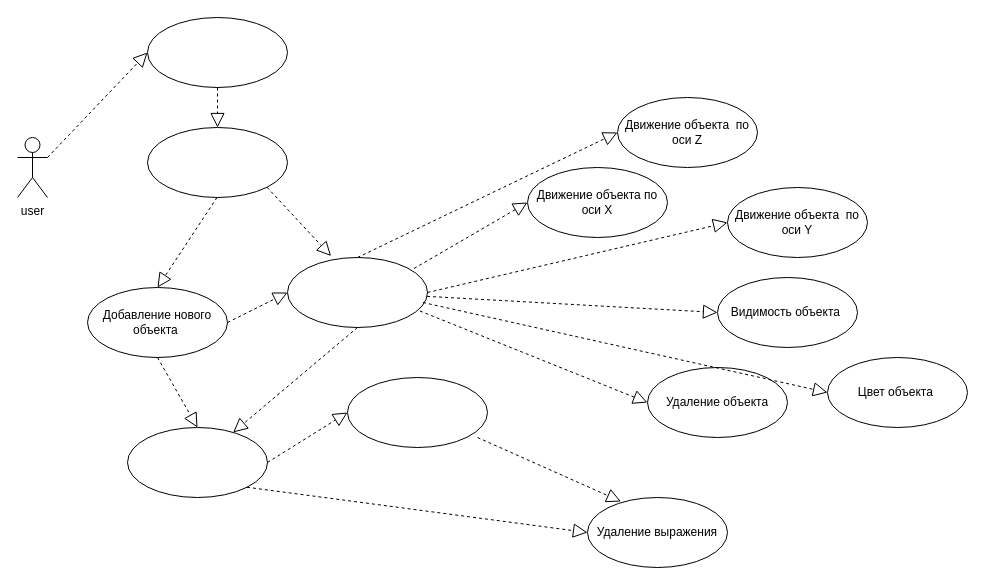
Some shapes in this 985 by 585 pixel diagram are drawn without their labels. Each missing label, with the centre of its shape:
authentication: point 217,52
Изменение выражения: point 417,412
Редактирование объекта: point 357,292
Создание нового выражения: point 197,462
Создание нового проекта или выбор сохраненного: point 217,162
